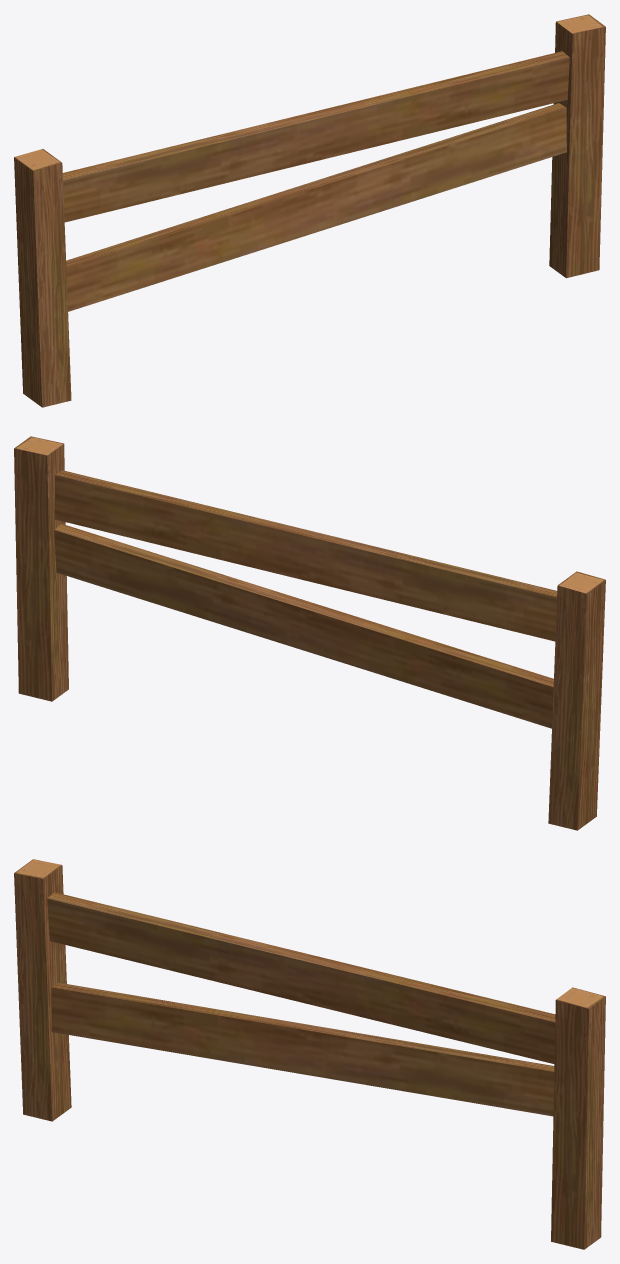
The model's file is p_Prop_WoodenFence_Single.glb.
3 views of the same model, one above another, from view 1: azimuth 30°, elevation 25°; view 2: azimuth 150°, elevation 25°; view 3: azimuth 330°, elevation 25° (orthographic).
Parts seen in each view (by area): view 1: Prop_WoodenFence_Single; view 2: Prop_WoodenFence_Single; view 3: Prop_WoodenFence_Single.
Boxes of the visible parts, box(x1,y1,x2,y2) form: Prop_WoodenFence_Single: box(14, 14, 605, 407); Prop_WoodenFence_Single: box(14, 436, 605, 830); Prop_WoodenFence_Single: box(14, 859, 605, 1249).
Bounding box in the file's own units: 2.06 × 0.8381 × 0.1198.
1 material, 1 textured.
